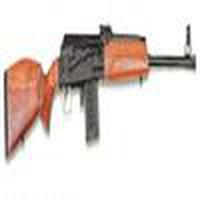gun: (6, 30, 197, 152)
